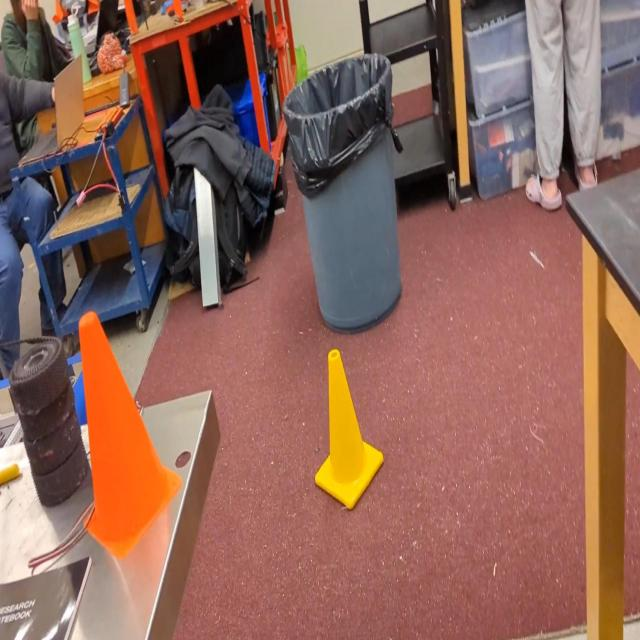frc_cone: (314, 350, 384, 514)
